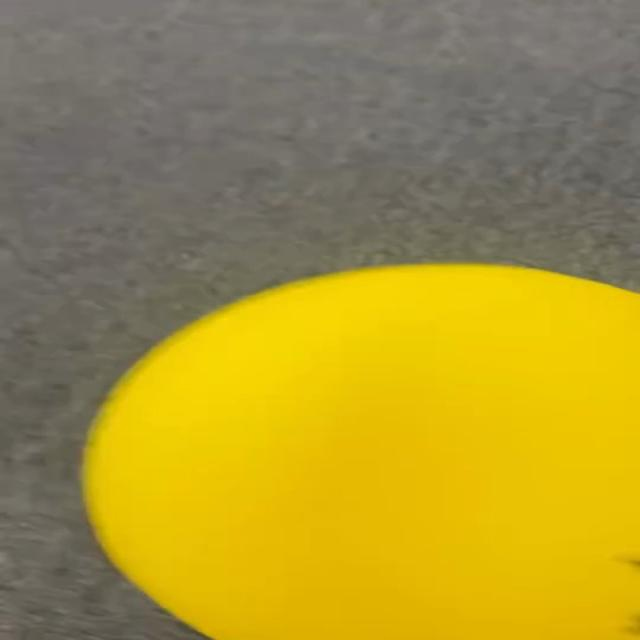Fuels: (85, 262, 639, 636)
